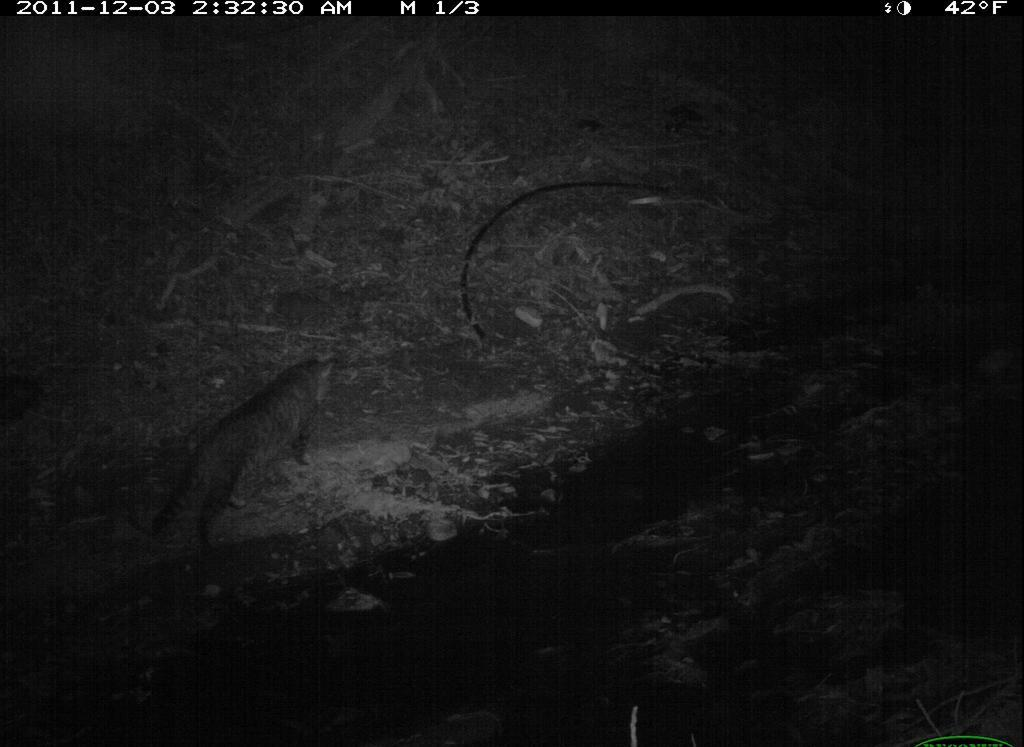cat: (141, 353, 344, 564)
